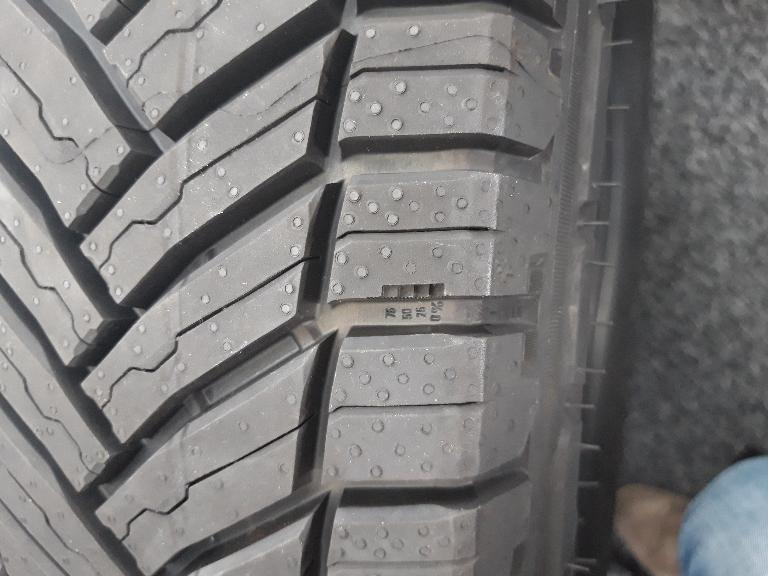temoin:100: (364, 281, 450, 303)
